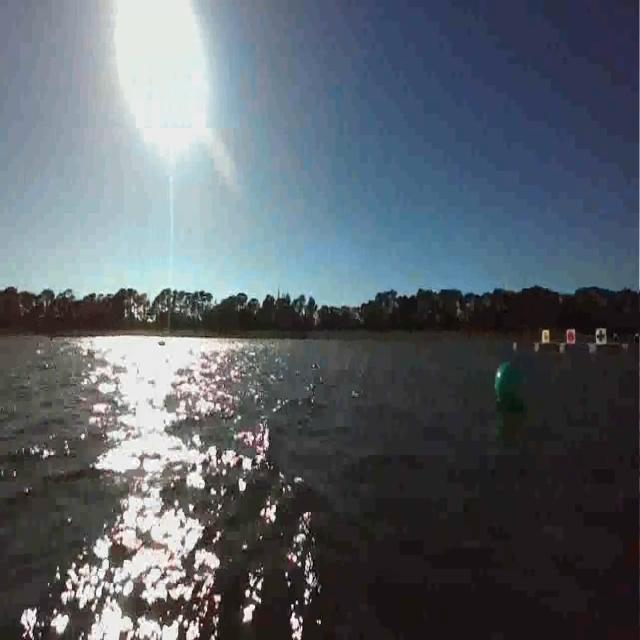green-buoy: (494, 360, 526, 412)
